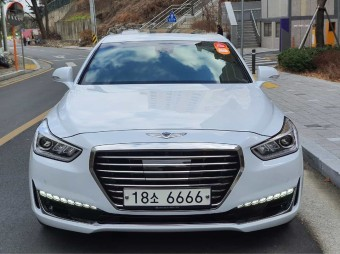car: (123, 187, 212, 206)
